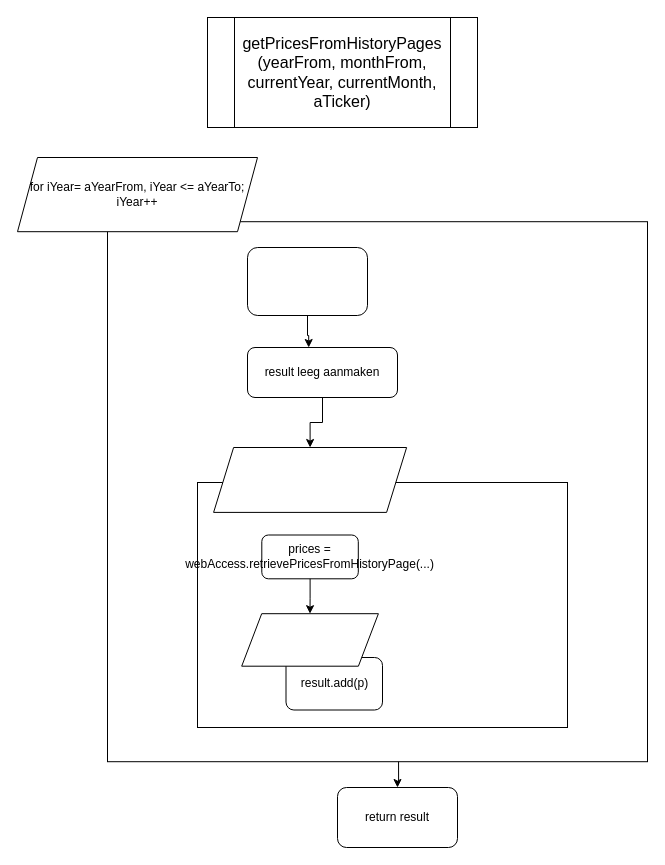
Image size: 665x865. Some labels were removed from this diagram. The shapes that lost their labels are listed below. From the top down, each one's centre as x and y in pixels, then its label:
At (307,281): "bepaal iMonthFrom en iMonthTo".
At (310,479): "for month -=iMonthFrom; month <= iMonthTo; month++".
At (309,639): "for p: prices".
